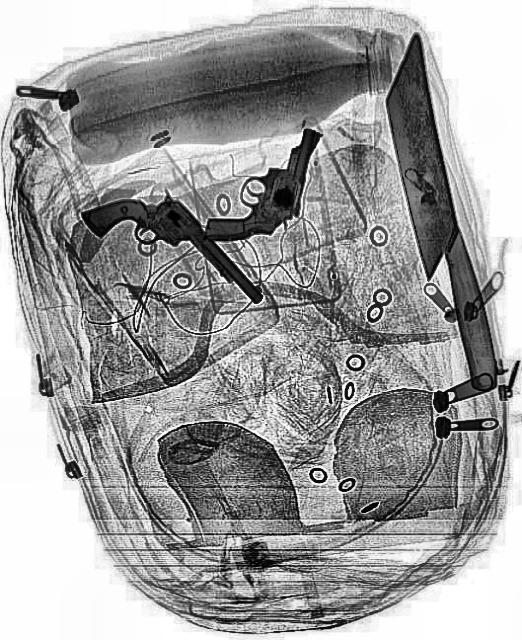Gun: (74, 160, 278, 306), (202, 110, 346, 278)
Knife: (364, 31, 512, 399)
